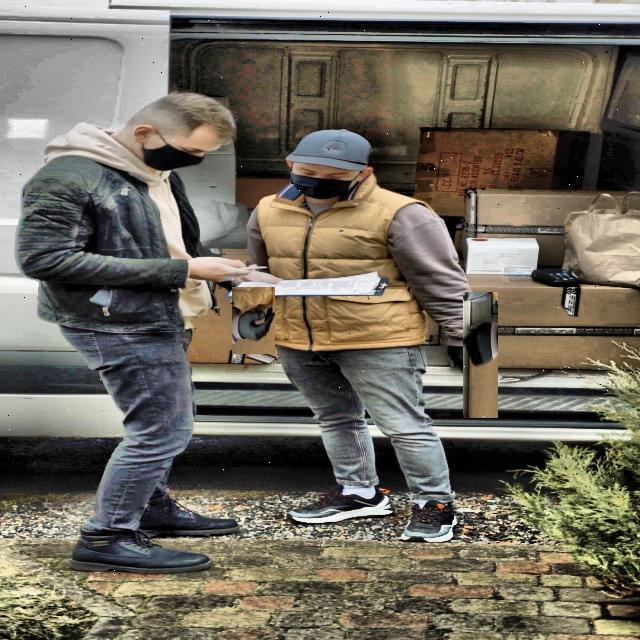gloved: (440, 315, 520, 396), (226, 292, 282, 348), (178, 251, 267, 281)
